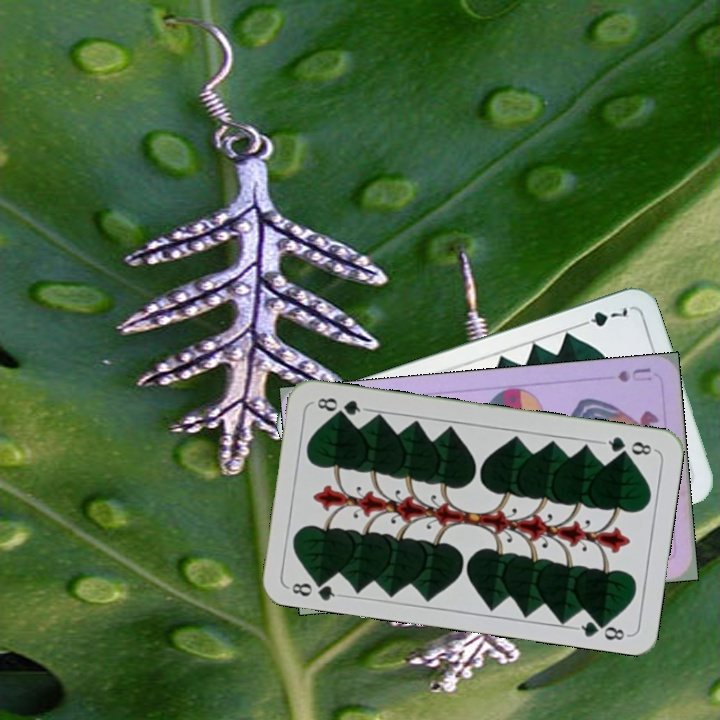G7: (574, 303, 632, 330)
G8: (288, 574, 344, 603), (599, 432, 658, 458)
SU: (613, 363, 654, 385)
